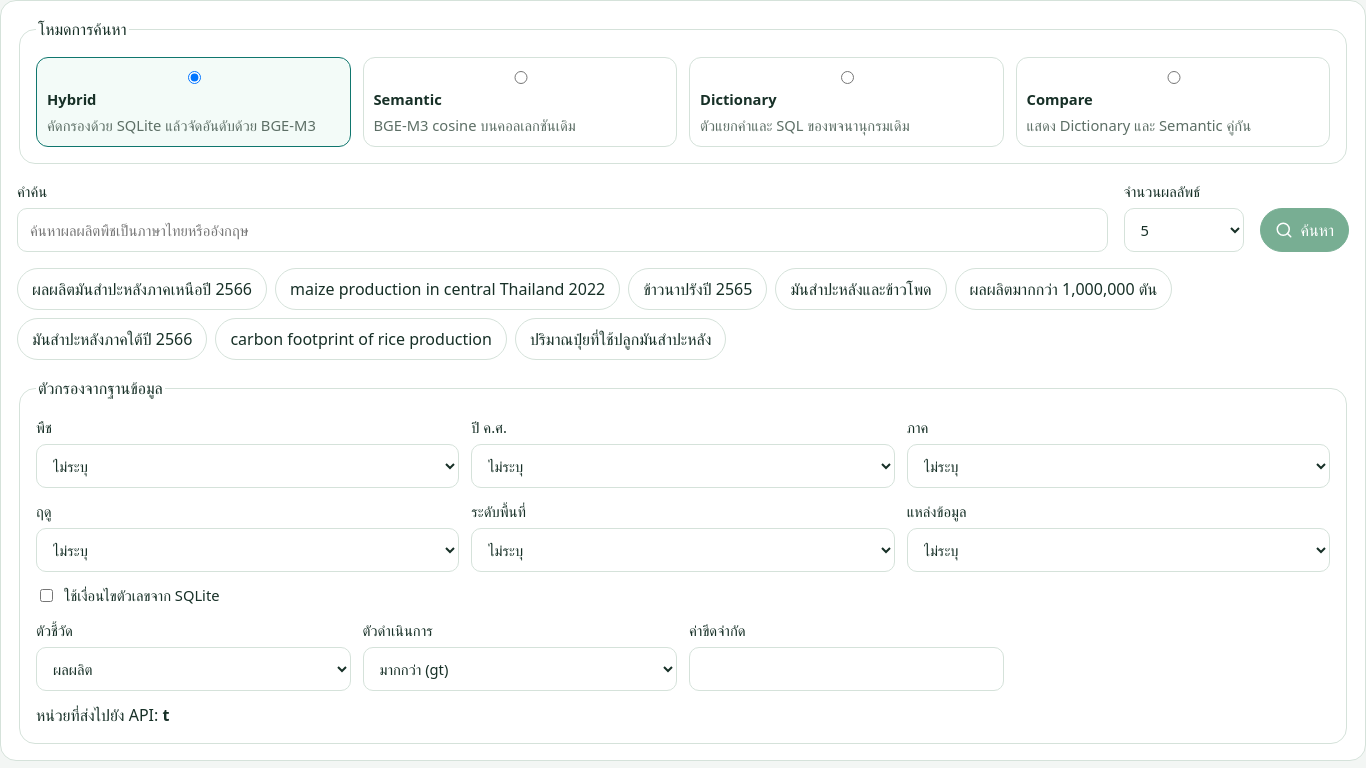
Scenario: frontend › T07 shows HTTP 422
Type "ข้าว" into the field labelled "คำค้น".
click(562, 230); type("ข้าว")  # box x1=17 y1=208 x2=1108 y2=252
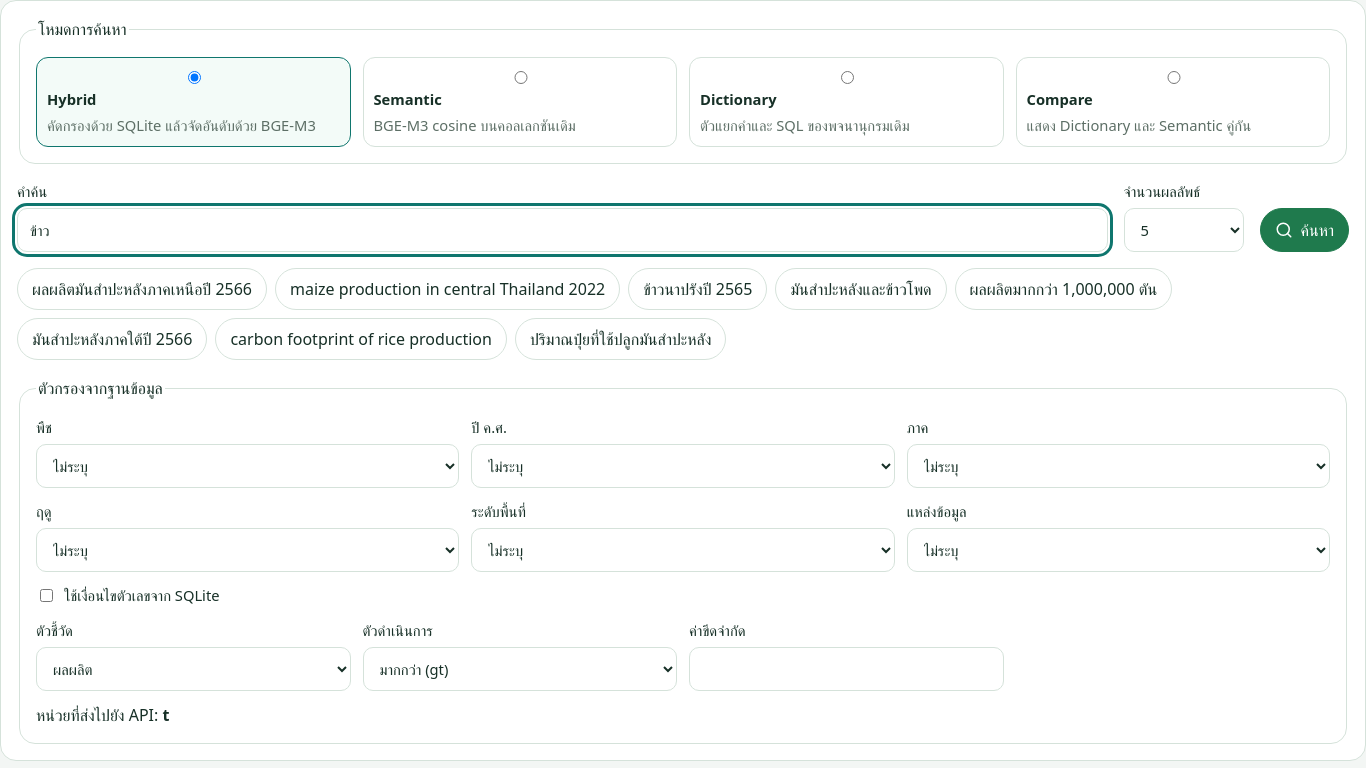
Click the button "ค้นหา".
click(1304, 230)  # box x1=1260 y1=208 x2=1349 y2=252
(page scrolled)
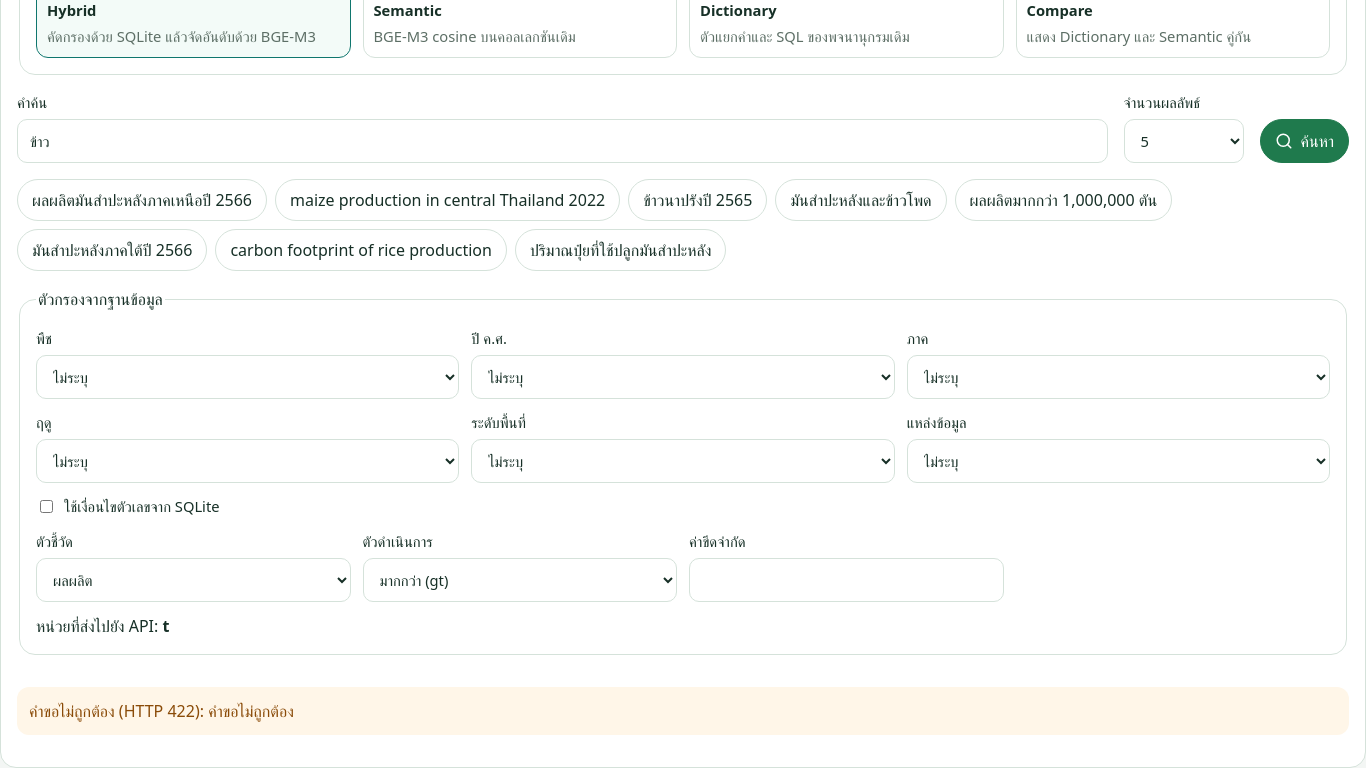
Expected: the message shows "HTTP 422", x1=29 y1=700 x2=294 y2=722
